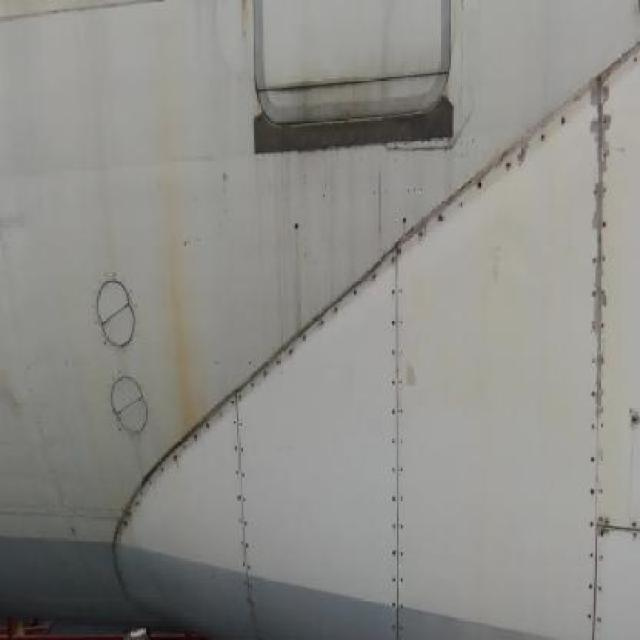Missing-Rivet: (402, 110, 573, 259), (245, 267, 382, 413), (580, 71, 612, 631), (383, 238, 414, 634), (221, 380, 262, 614), (143, 414, 219, 504)
Rust: (156, 163, 209, 446), (233, 0, 265, 62)
Scartch: (0, 192, 31, 418)
